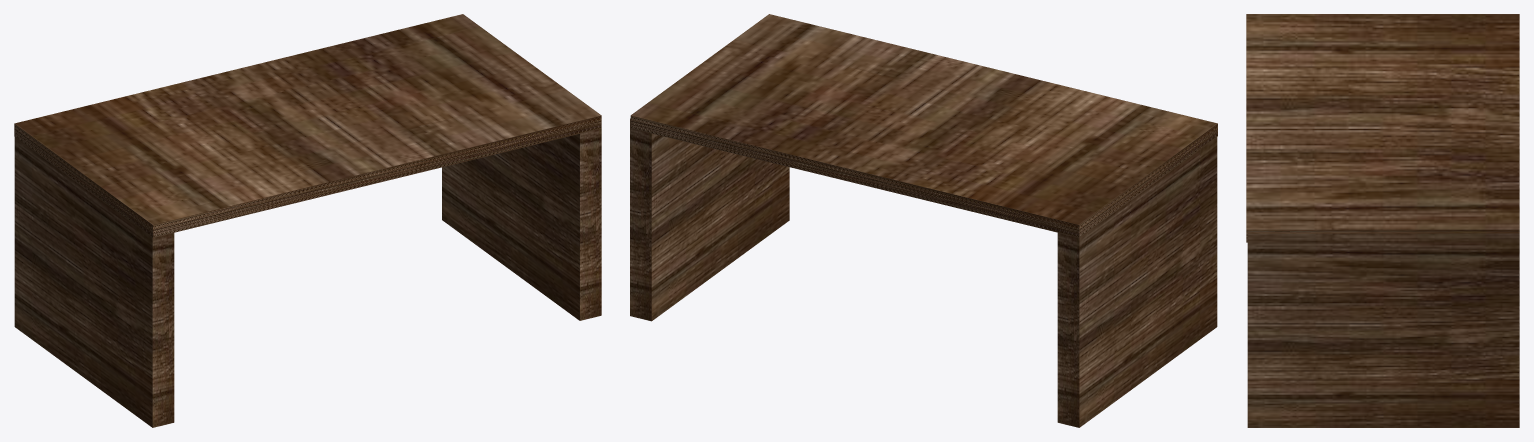
File: table.dae
The picture shows the model from 3 angles, left to right: view 1: azimuth 30°, elevation 25°; view 2: azimuth 150°, elevation 25°; view 3: azimuth 270°, elevation 25°; orthographic projection.
Visible parts, largest first — view 1: Cube, Cube_002, Cube_001; view 2: Cube, Cube_002, Cube_001; view 3: Cube, Cube_001.
Boxes of the visible parts, x1,y1,x2,y2 form: Cube: (14, 14, 601, 237); Cube_002: (14, 137, 174, 427); Cube_001: (442, 128, 601, 320); Cube: (630, 14, 1217, 237); Cube_002: (1057, 137, 1217, 427); Cube_001: (630, 118, 789, 321); Cube: (1246, 14, 1519, 242); Cube_001: (1247, 233, 1519, 427).
Bounding box in the file's own units: 4.76 × 2.55 × 2.06.
Materials: 1 (1 with a texture image).
